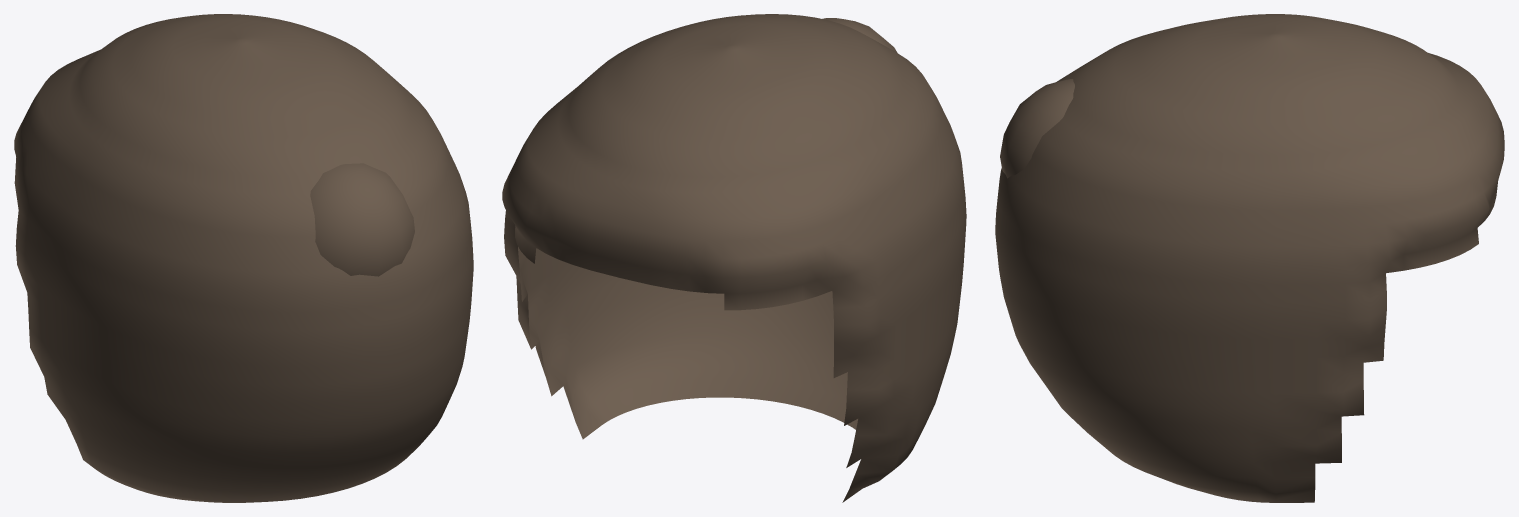
The model's file is gente.pelo_mono.fbx.
The picture shows the model from 3 angles, left to right: view 1: azimuth 30°, elevation 25°; view 2: azimuth 150°, elevation 25°; view 3: azimuth 270°, elevation 25°; orthographic projection.
Visible parts, largest first — view 1: Pelo con moño, Moño; view 2: Pelo con moño, Moño; view 3: Pelo con moño, Moño.
Part boxes in pixels (x1=…): Pelo con moño: x1=14, y1=14, x2=473, y2=502; Moño: x1=310, y1=163, x2=414, y2=276; Pelo con moño: x1=502, y1=14, x2=966, y2=502; Moño: x1=822, y1=18, x2=897, y2=52; Pelo con moño: x1=995, y1=14, x2=1504, y2=502; Moño: x1=1000, y1=79, x2=1074, y2=178.
Size of the model in its own units: 0.2007 by 0.2109 by 0.2405.
